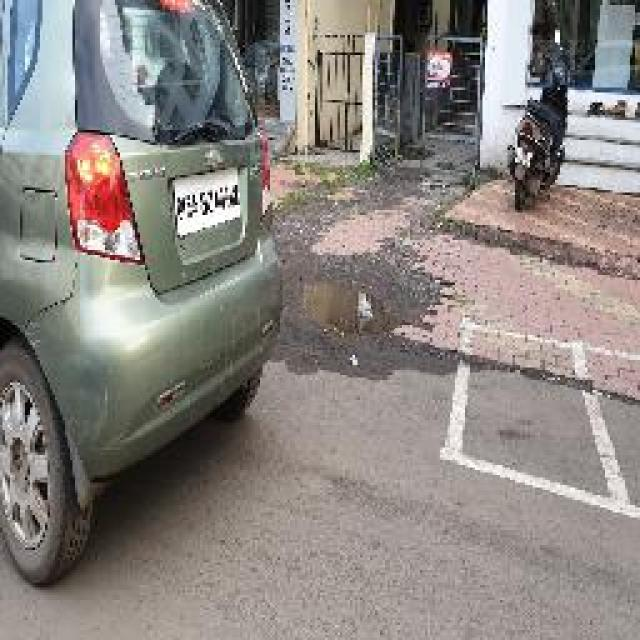puddle: (284, 272, 404, 347)
